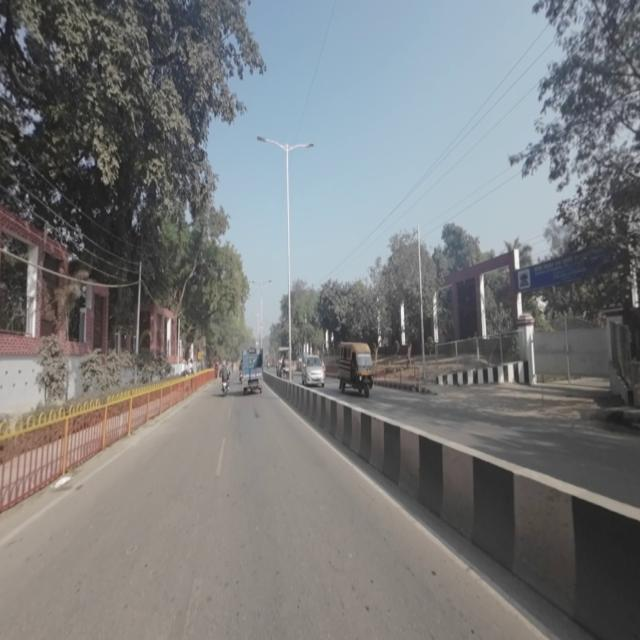Garbage: (54, 470, 71, 494)
